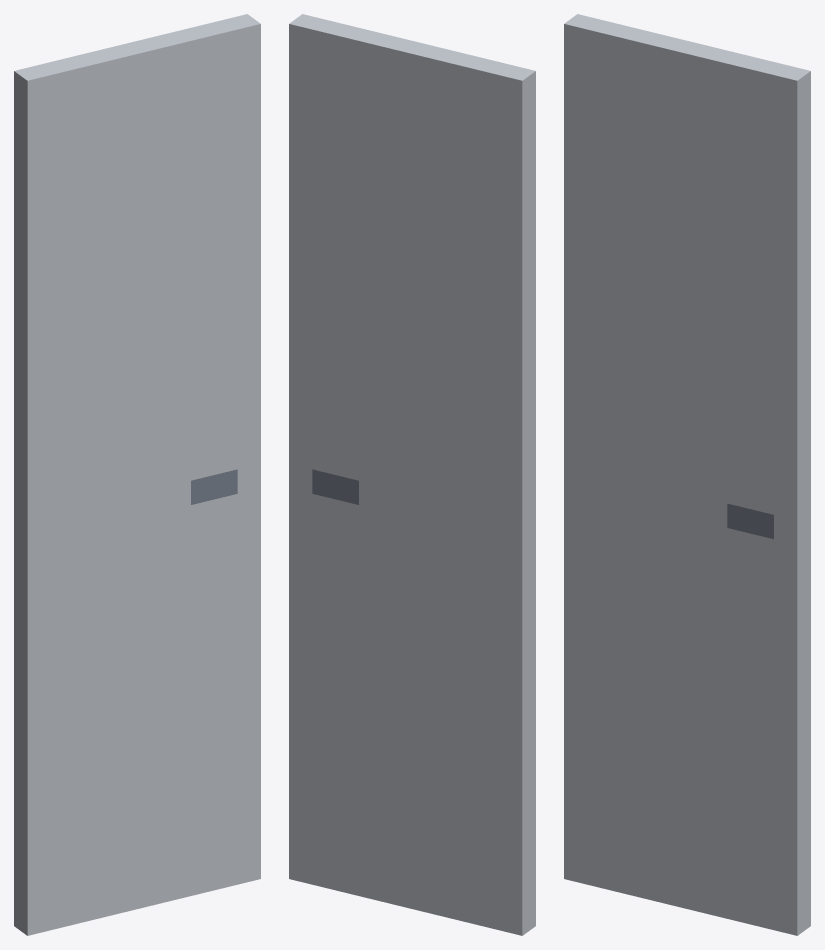
Rendered from locker-door.obj.
The picture shows the model from 3 angles, left to right: view 1: azimuth 30°, elevation 25°; view 2: azimuth 150°, elevation 25°; view 3: azimuth 330°, elevation 25°; orthographic projection.
Size of the model in its own units: 1 by 3.5 by 0.1.
1 material, 1 textured.
